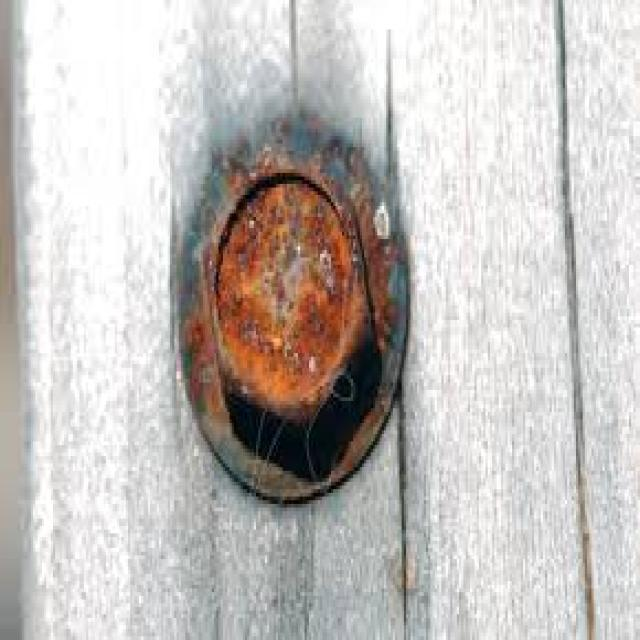Rusty bolt: (210, 156, 373, 431)
